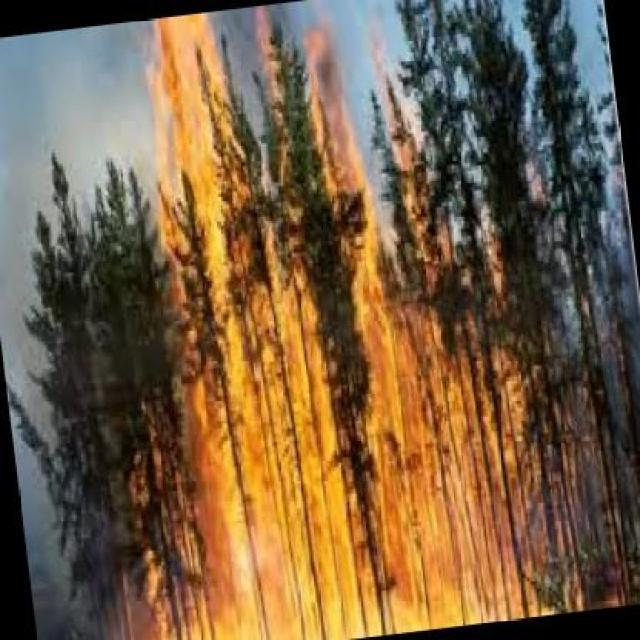Fire: (94, 12, 588, 624)
